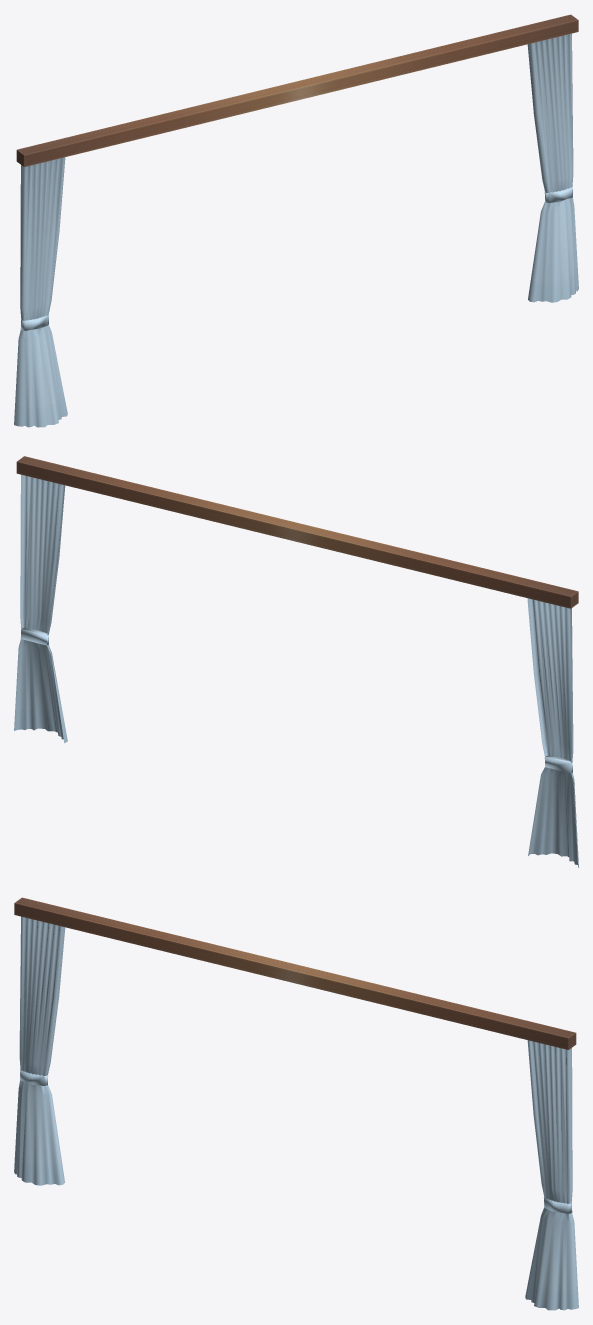
The model's file is KR_Curtain_01_02.fbx.
3 views of the same model, one above another, from view 1: azimuth 30°, elevation 25°; view 2: azimuth 150°, elevation 25°; view 3: azimuth 330°, elevation 25° (orthographic).
Parts seen in each view (by area): view 1: curtain_rail, curtain_L, curtain_R; view 2: curtain_rail, curtain_R, curtain_L; view 3: curtain_rail, curtain_R, curtain_L.
Part boxes in pixels (left/top/right/bottom): curtain_rail: left=16, top=14, right=578, bottom=166; curtain_L: left=14, top=157, right=67, bottom=427; curtain_R: left=527, top=33, right=578, bottom=302; curtain_rail: left=16, top=456, right=578, bottom=608; curtain_R: left=14, top=474, right=67, bottom=743; curtain_L: left=527, top=598, right=578, bottom=867; curtain_rail: left=14, top=897, right=576, bottom=1049; curtain_R: left=525, top=1040, right=578, bottom=1310; curtain_L: left=14, top=916, right=65, bottom=1185.
Bounding box in the file's own units: 392 × 181 × 14.92.
